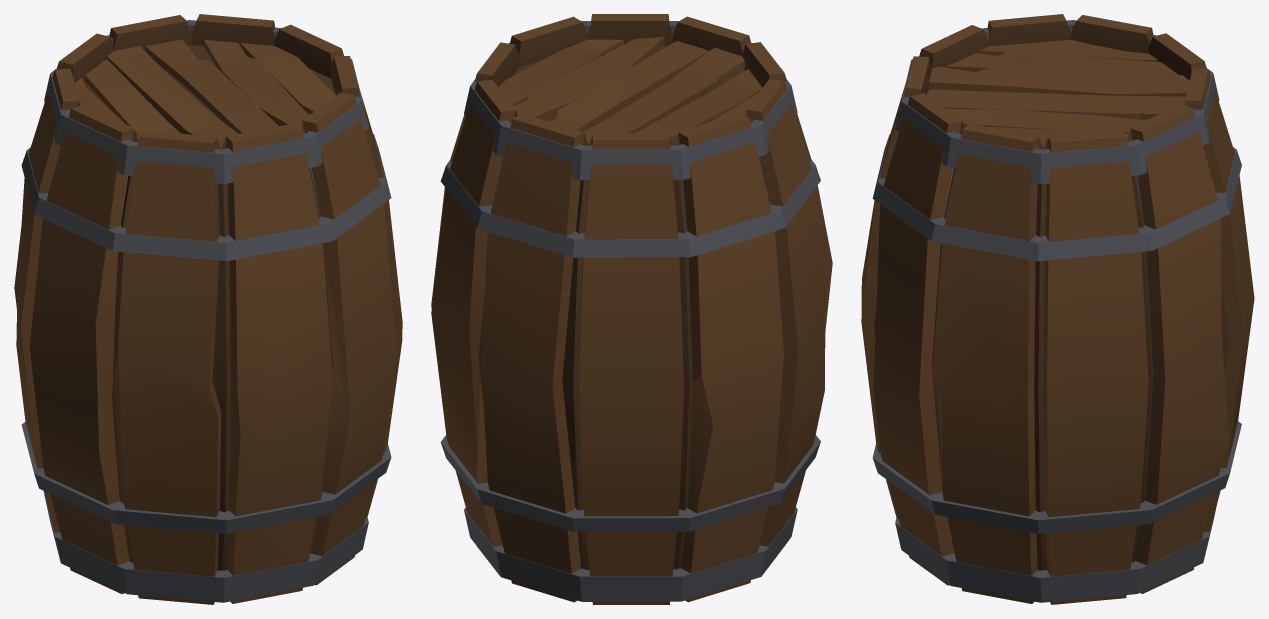
File: v_barrel.glb
3 views of the same model, side by side, from view 1: azimuth 30°, elevation 25°; view 2: azimuth 150°, elevation 25°; view 3: azimuth 270°, elevation 25° (orthographic).
Visible parts, largest first — view 1: Barrel; view 2: Barrel; view 3: Barrel.
Part boxes in pixels (left/top/right/bottom): Barrel: left=14, top=14, right=402, bottom=604; Barrel: left=431, top=14, right=832, bottom=604; Barrel: left=861, top=14, right=1254, bottom=604.
Size of the model in its own units: 0.1582 by 0.2043 by 0.1568.
